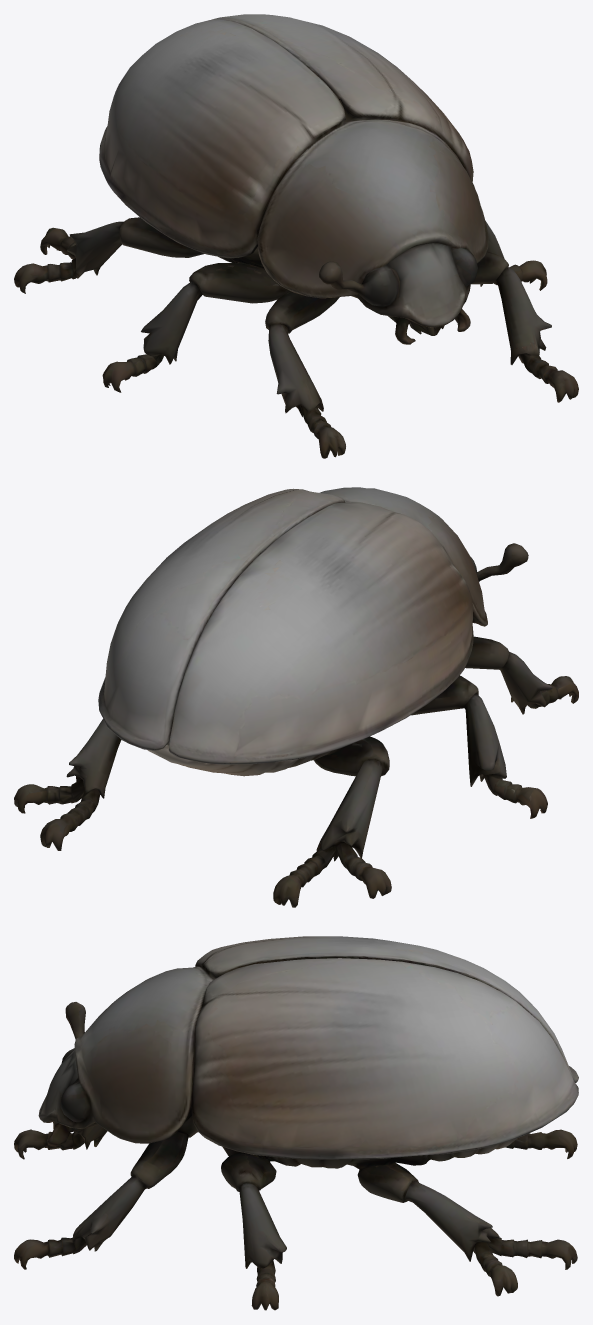
The model's file is beetle.glb.
3 renders of one model, top to bottom at view 1: azimuth 30°, elevation 25°; view 2: azimuth 150°, elevation 25°; view 3: azimuth 270°, elevation 25°, orthographic. The views are drawn at different scales.
Visible parts, largest first — view 1: Mesh_0; view 2: Mesh_0; view 3: Mesh_0.
Part boxes in pixels (<box>): Mesh_0: <box>14,14,578,458</box>; Mesh_0: <box>14,487,578,907</box>; Mesh_0: <box>14,936,578,1310</box>.
Size of the model in its own units: 0.8765 by 0.4974 by 1.
Materials: 1 (1 with a texture image).
